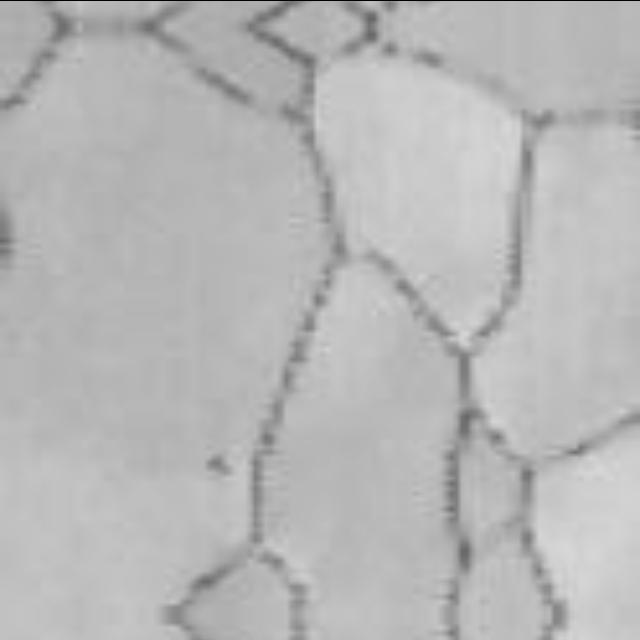good_void: (206, 453, 232, 469)
